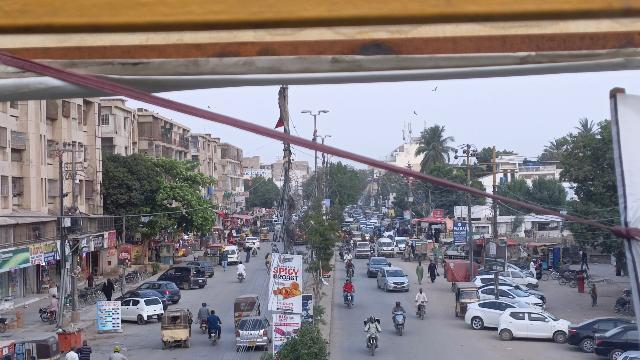Bike: (391, 309, 407, 337), (365, 330, 381, 355), (413, 300, 430, 322), (205, 327, 222, 346), (341, 290, 356, 308), (197, 316, 209, 334), (46, 308, 58, 324), (236, 270, 245, 284)
Car: (494, 305, 573, 340), (565, 314, 630, 352), (462, 295, 525, 331), (590, 321, 638, 359), (481, 284, 547, 311), (234, 314, 272, 350), (159, 265, 210, 291), (121, 296, 164, 325), (139, 279, 182, 305), (376, 267, 411, 293)
Person: (205, 309, 226, 329), (102, 277, 117, 301), (365, 314, 382, 334), (195, 301, 212, 321), (427, 260, 439, 285), (79, 339, 92, 360), (390, 298, 407, 312), (340, 279, 357, 293), (415, 260, 424, 286), (415, 287, 429, 302), (48, 293, 59, 310), (234, 260, 248, 273)
Rickshaw: (159, 308, 195, 352), (233, 293, 263, 330), (452, 280, 479, 319)
